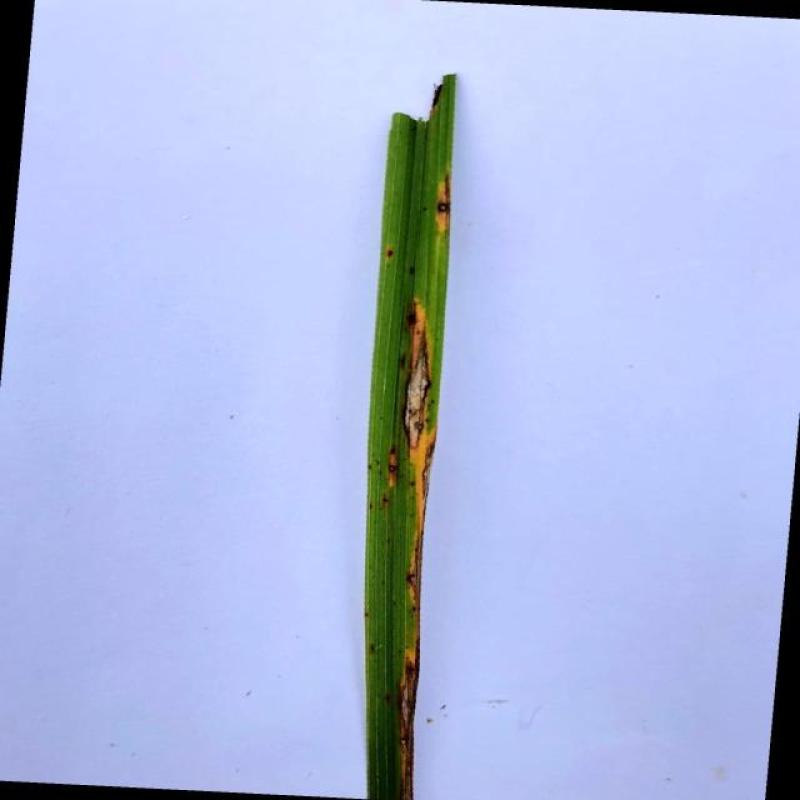Leaf_Blast: (400, 322, 435, 450), (407, 532, 425, 612), (419, 439, 436, 501), (400, 735, 415, 800), (400, 678, 415, 734), (435, 183, 450, 233), (404, 654, 419, 682), (388, 450, 397, 489), (384, 248, 395, 262)
